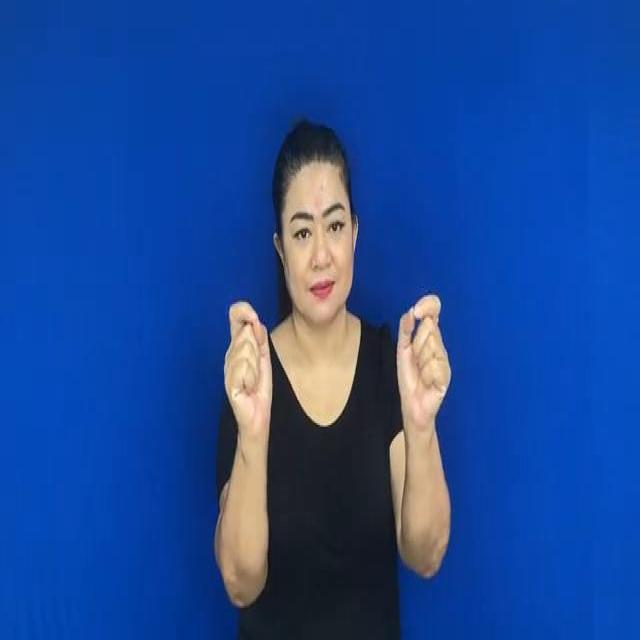crab: (382, 282, 466, 444), (212, 282, 290, 450)
